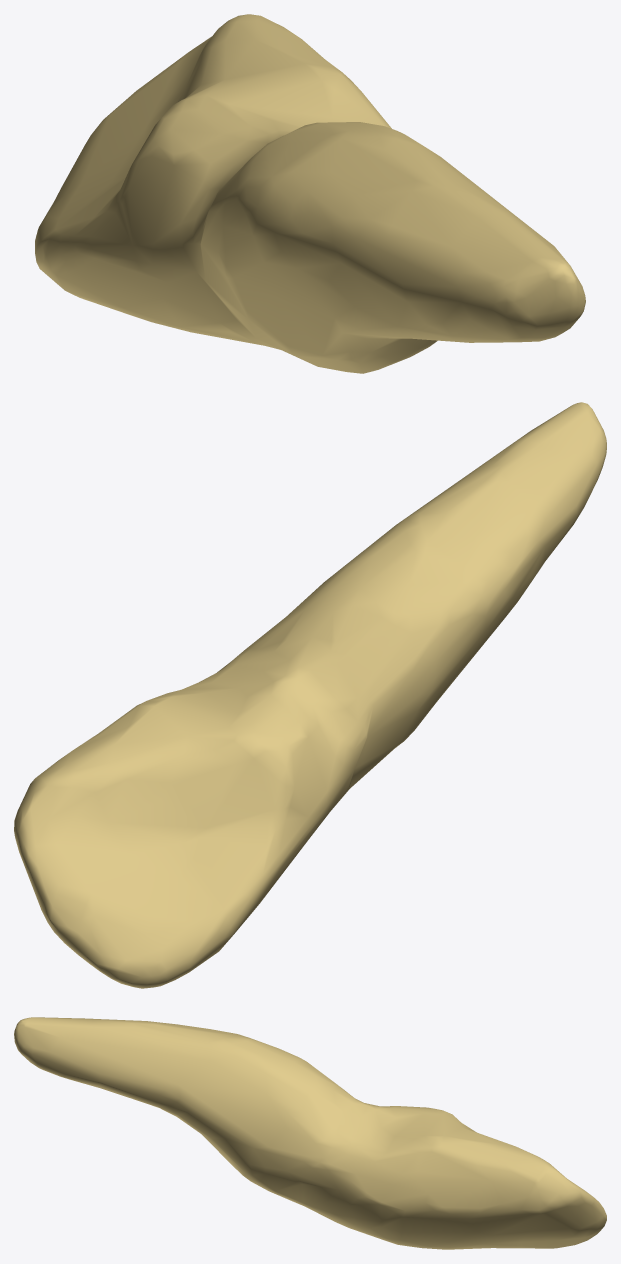
3 views of the same model, one above another, from view 1: azimuth 30°, elevation 25°; view 2: azimuth 150°, elevation 25°; view 3: azimuth 270°, elevation 25° (orthographic). The views are drawn at different scales.
Visible parts, largest first — view 1: 左侧上颌侧切牙; view 2: 左侧上颌侧切牙; view 3: 左侧上颌侧切牙.
Boxes of the visible parts, x1,y1,x2,y2 form: 左侧上颌侧切牙: [35, 14, 585, 373]; 左侧上颌侧切牙: [14, 402, 606, 988]; 左侧上颌侧切牙: [14, 1017, 606, 1249].
Size of the model in its own units: 0.0138 by 0.0163 by 0.0416.
